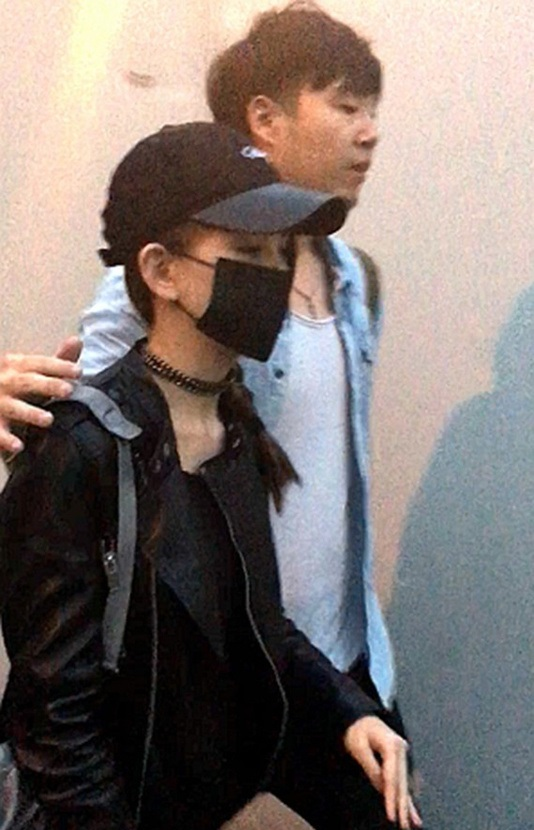face: (294, 76, 384, 211)
face_mask: (193, 212, 294, 356)
